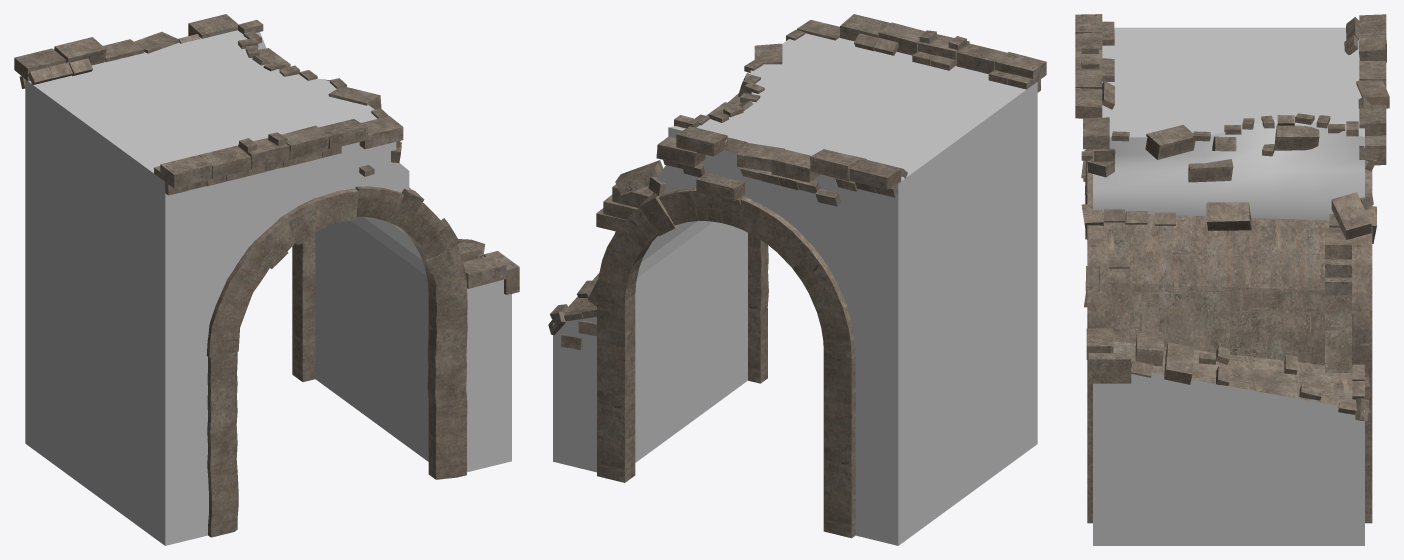
Rendered from SM_Bridge03.FBX.
3 renders of one model, left to right at view 1: azimuth 30°, elevation 25°; view 2: azimuth 150°, elevation 25°; view 3: azimuth 270°, elevation 25°, orthographic. The views are drawn at different scales.
Visible parts, largest first — view 1: SM_Bridge03; view 2: SM_Bridge03; view 3: SM_Bridge03.
Boxes of the visible parts, bbox=[...] form: SM_Bridge03: bbox=[14, 14, 519, 545]; SM_Bridge03: bbox=[548, 14, 1046, 545]; SM_Bridge03: bbox=[1075, 14, 1389, 545].
Size of the model in its own units: 1861 by 1457 by 1912.
